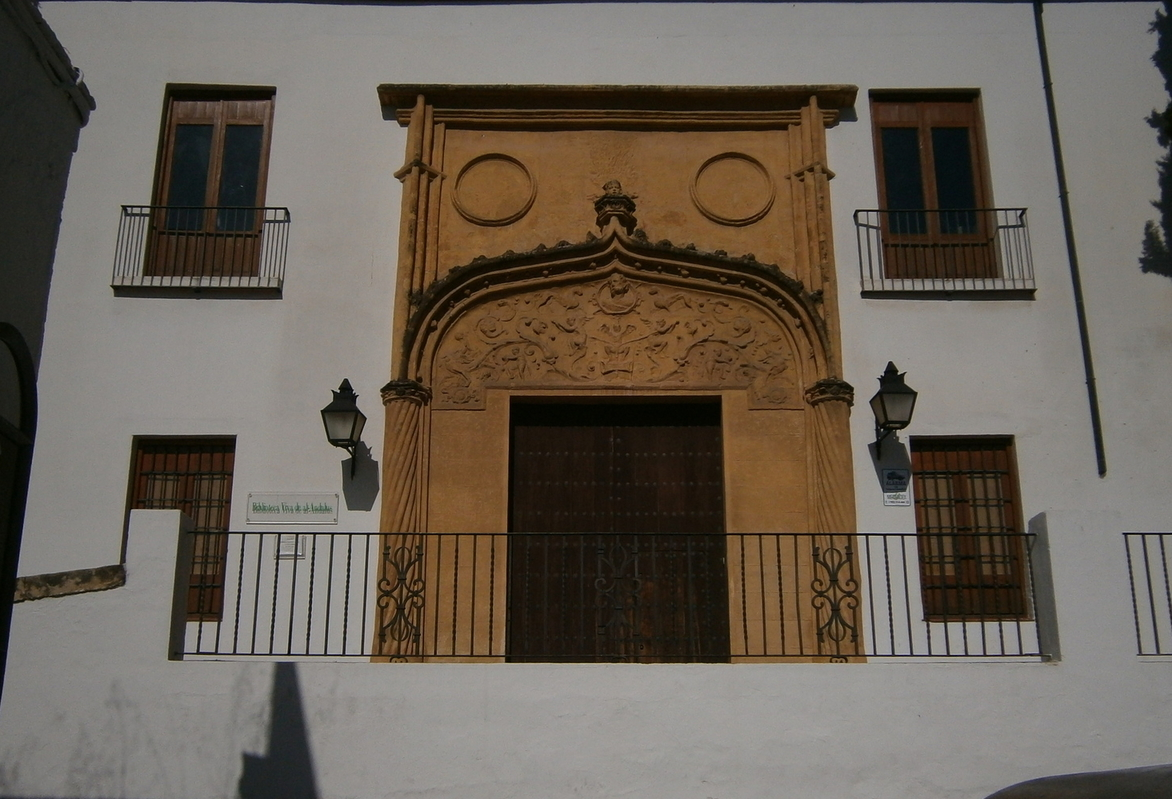arco-conopial: (404, 215, 835, 336)
